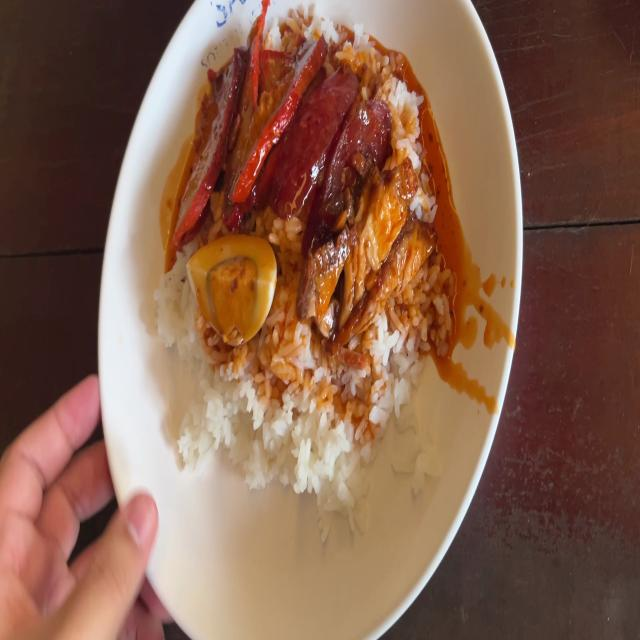red_pork_and_crispy_pork: (187, 240, 279, 342)
stir_fried_basil: (278, 79, 389, 220)
